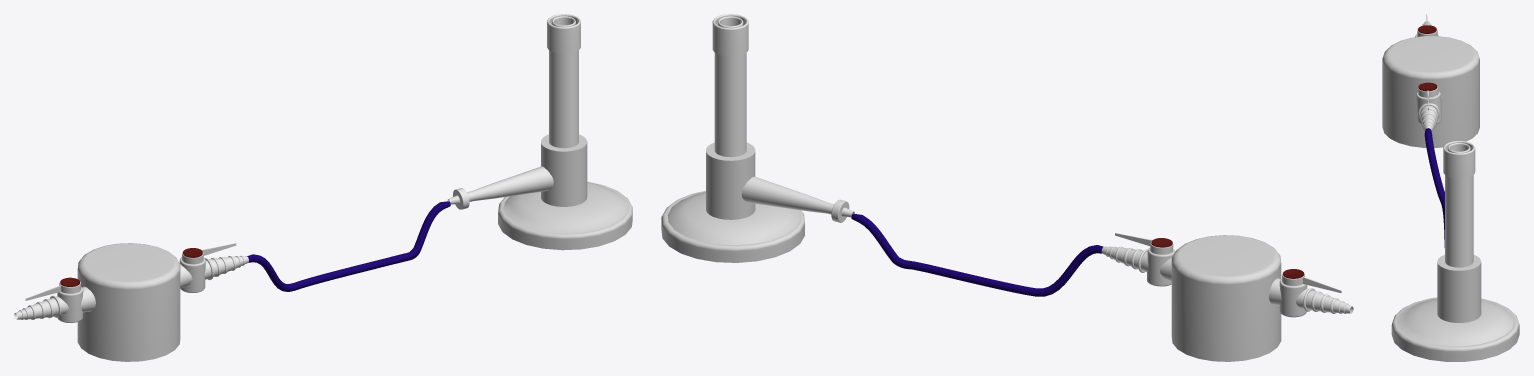
Rendered from heater .fbx.
The picture shows the model from 3 angles, left to right: view 1: azimuth 30°, elevation 25°; view 2: azimuth 150°, elevation 25°; view 3: azimuth 270°, elevation 25°; orthographic projection. The views are drawn at different scales.
Visible parts, largest first — view 1: Circle.003, Cylinder.767, Circle.004, BézierCurve, Circle.001, Cylinder.777, Cylinder.773, Cylinder.778, Cylinder.774; view 2: Cylinder.767, Circle.003, Circle.004, BézierCurve, Circle.001, Cylinder.777, Cylinder.773, Cylinder.778, Cylinder.774; view 3: Cylinder.767, Circle.003, Circle.004, Circle.001, BézierCurve, Cylinder.774, Cylinder.773, Plane.083, Cylinder.770.
Part boxes in pixels (<box>): Circle.003: <box>447,134,632,250</box>; Cylinder.767: <box>77,243,180,361</box>; Circle.004: <box>549,50,578,148</box>; BézierCurve: <box>247,201,450,291</box>; Circle.001: <box>547,14,580,53</box>; Cylinder.777: <box>14,286,95,319</box>; Cylinder.773: <box>180,255,248,288</box>; Cylinder.778: <box>57,281,83,322</box>; Cylinder.774: <box>179,252,205,292</box>; Cylinder.767: <box>1171,235,1281,361</box>; Circle.003: <box>661,142,854,262</box>; Circle.004: <box>714,52,746,157</box>; BézierCurve: <box>851,213,1103,296</box>; Circle.001: <box>712,14,748,56</box>; Cylinder.777: <box>1269,278,1353,313</box>; Cylinder.773: <box>1101,246,1171,281</box>; Cylinder.778: <box>1279,273,1307,317</box>; Cylinder.774: <box>1147,241,1175,286</box>; Cylinder.767: <box>1382,36,1479,147</box>; Circle.003: <box>1391,254,1519,361</box>; Circle.004: <box>1445,175,1473,267</box>; Circle.001: <box>1443,141,1475,178</box>; BézierCurve: <box>1424,128,1444,247</box>; Cylinder.774: <box>1416,85,1441,124</box>; Cylinder.773: <box>1418,93,1441,131</box>; Plane.083: <box>1418,82,1437,109</box>; Cylinder.770: <box>1418,25,1436,33</box>.
Size of the model in its own units: 137 by 42.05 by 27.76.
